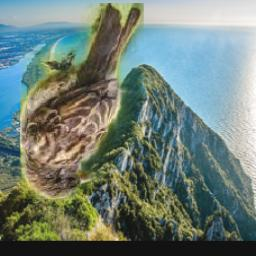Sparrow: (20, 4, 144, 200)
